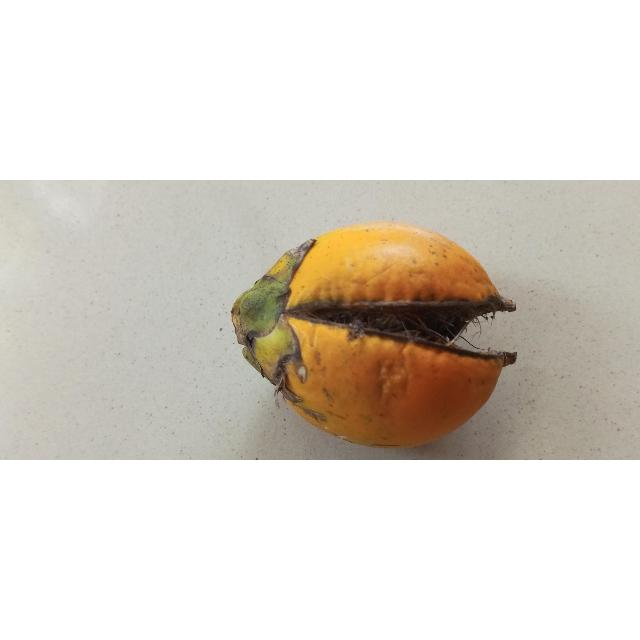damaged: (232, 221, 516, 448)
